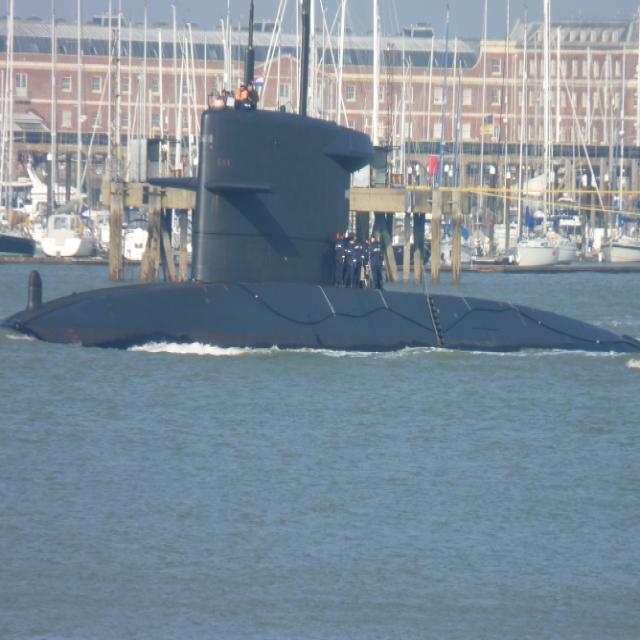submarine: (1, 109, 640, 361)
